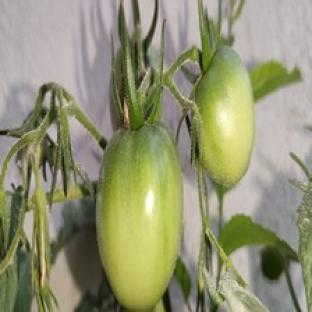Tomato: (97, 123, 182, 310), (195, 46, 254, 188), (111, 77, 123, 130)
